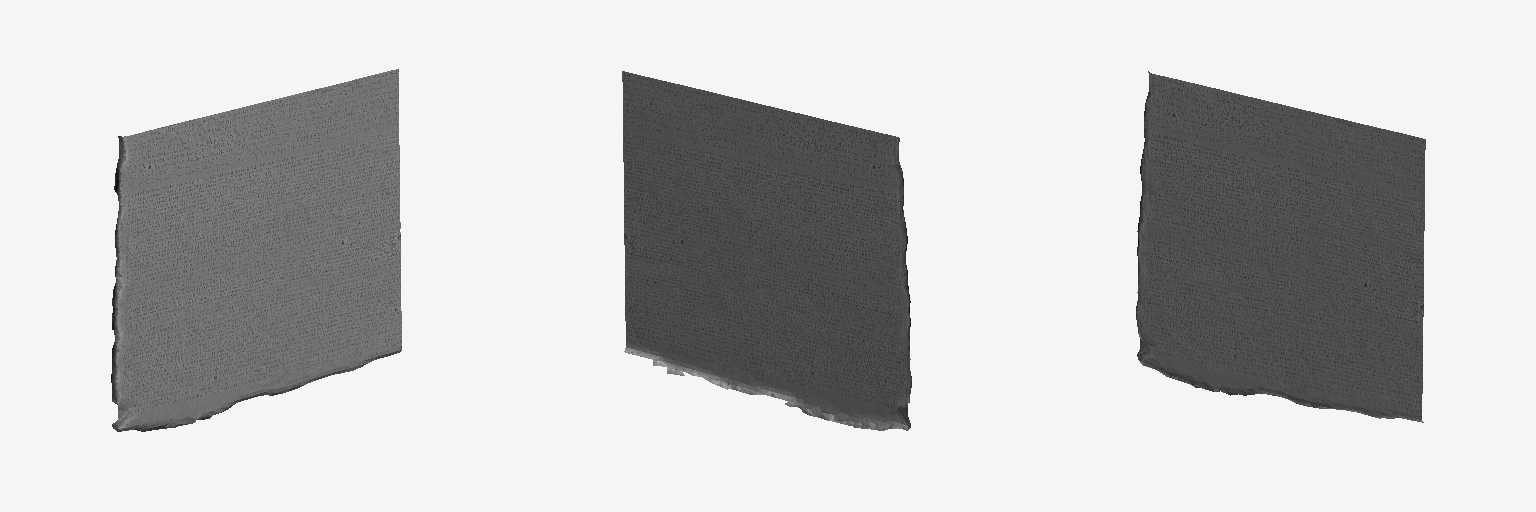
3 views of the same model, side by side, from view 1: azimuth 30°, elevation 25°; view 2: azimuth 150°, elevation 25°; view 3: azimuth 330°, elevation 25° (orthographic).
Bounding box in the file's own units: 0.4801 × 0.4794 × 0.0179.
1 materials, 1 textured.